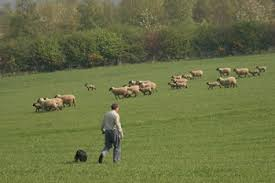sheep: (106, 84, 132, 100), (54, 92, 78, 109), (215, 76, 240, 92), (35, 98, 58, 113), (39, 99, 56, 113), (232, 64, 248, 78), (203, 79, 221, 91), (215, 66, 232, 76), (138, 86, 153, 97), (136, 77, 152, 87), (247, 67, 261, 78), (83, 84, 99, 93), (192, 67, 205, 78), (168, 76, 185, 84), (257, 64, 270, 73), (181, 71, 193, 79), (175, 81, 186, 89), (165, 81, 175, 88)
